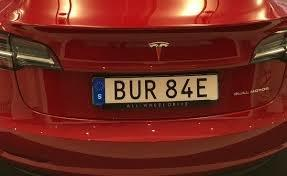license-plates: (96, 76, 219, 104)
